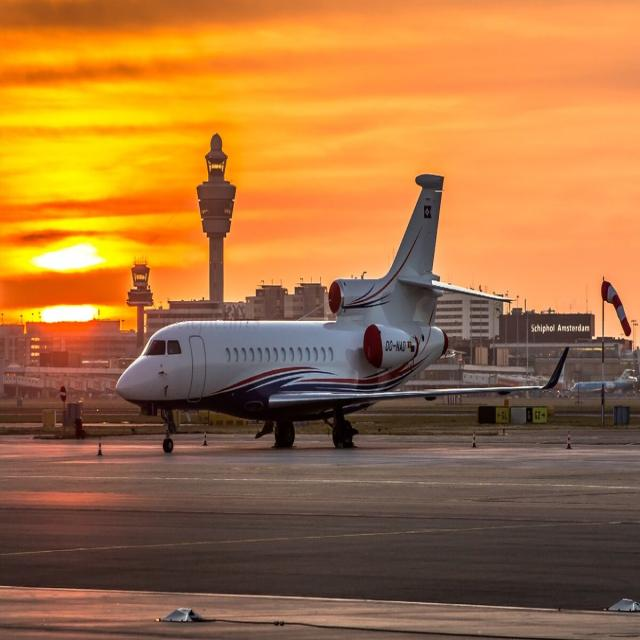plain: (110, 166, 575, 438)
